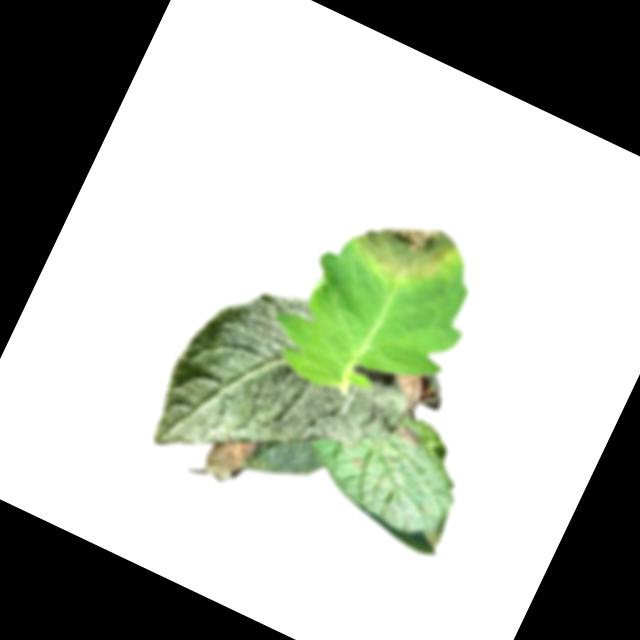Late_blight: (344, 198, 458, 300), (198, 425, 262, 494), (379, 362, 446, 425), (393, 421, 429, 450)
healthy: (141, 260, 429, 533)
